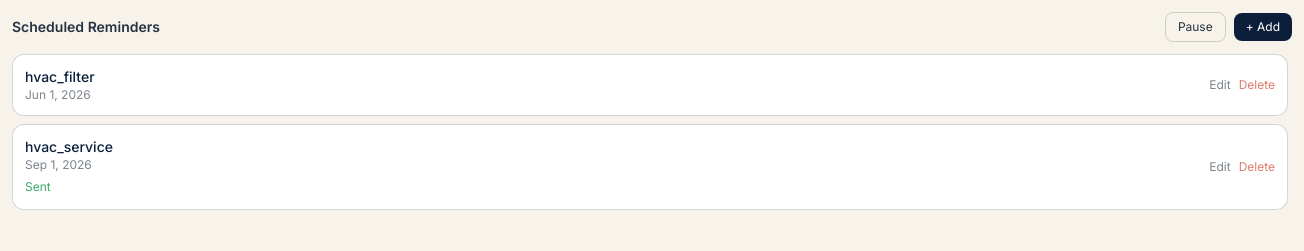
Test: RemindersPanel › shows error and does not refresh when Delete request fails
Click the button "Delete" in the row of "hvac_filter". click: click(1257, 85)
box: [1239,77,1275,93]
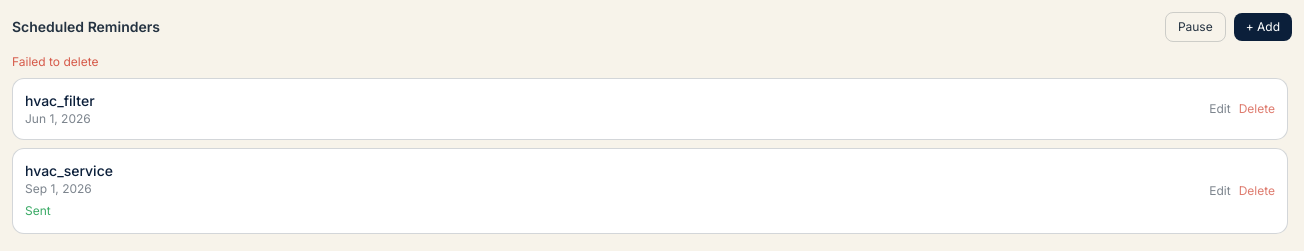
expect the text "Failed to delete" is shown: met, box [12,54,98,69]
